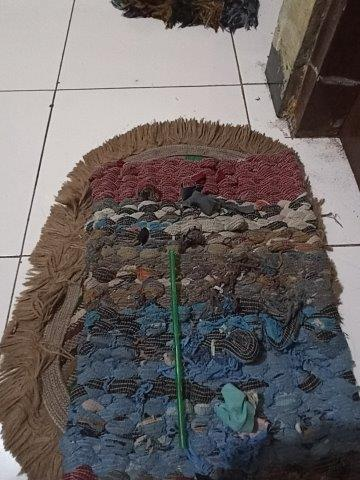sedotan: (169, 253, 188, 448)
